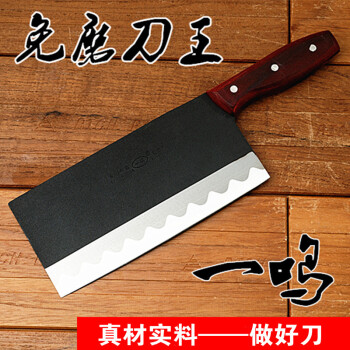knief: (31, 34, 336, 298)
